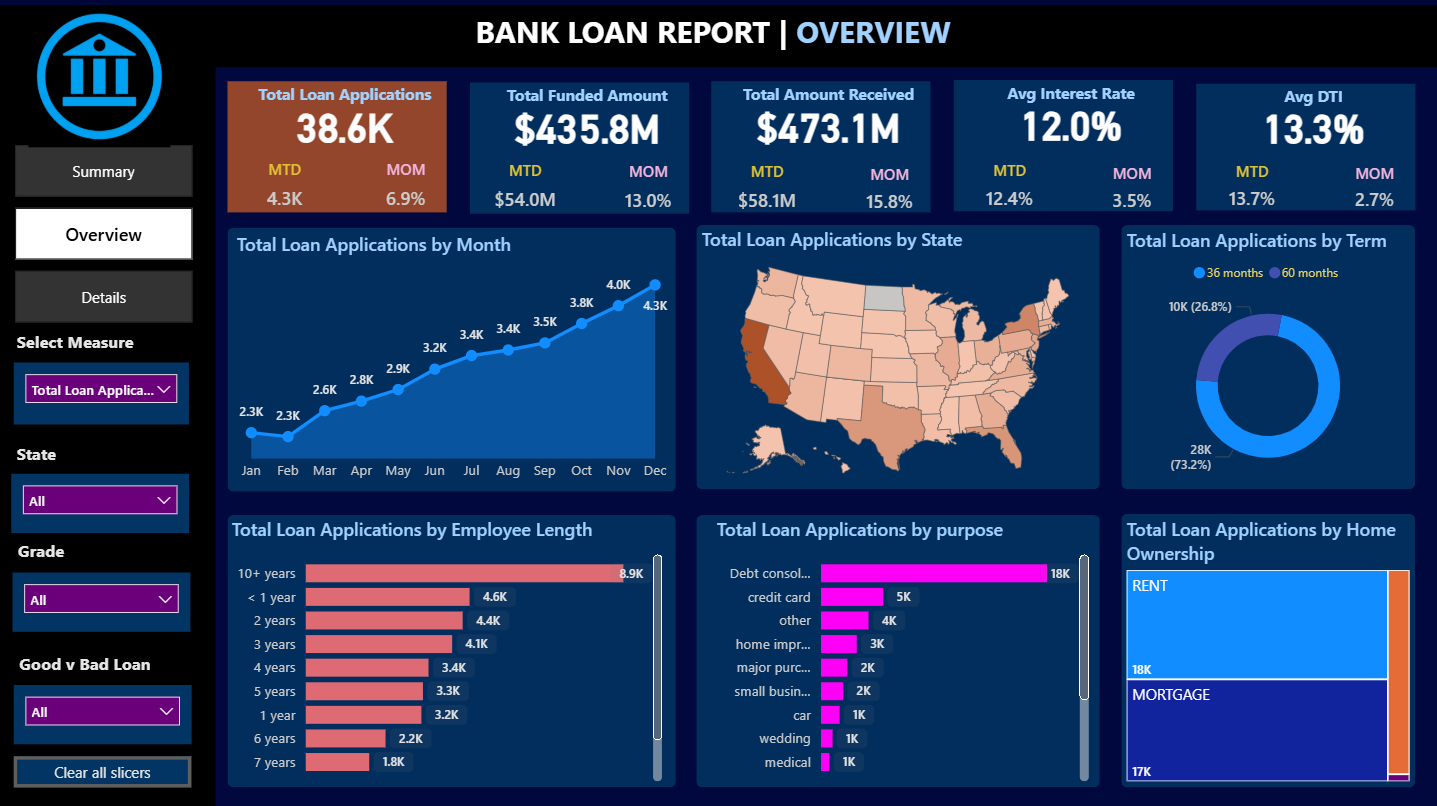

The page's visual inventory and layout, read from the dashboard file:
{"tool":"powerbi","page":{"name":"Overview","canvas":[1280,720],"ordinal":1},"visuals":[{"type":"shape","box":[0,55.5,192,664.7],"z":0},{"type":"shape","box":[848.8,70.8,195.4,117],"z":0,"group":"g4"},{"type":"shape","box":[202.7,72,195.4,117],"z":0,"group":"g1"},{"type":"shape","box":[633.6,72,195.4,117],"z":0,"group":"g3"},{"type":"shape","box":[418.3,73.2,195.4,117],"z":0,"group":"g2"},{"type":"shape","box":[1065.3,74.2,195.4,112.7],"z":0,"group":"g5"},{"type":"card","fields":{"Values":["bank_loan_data.Avg Interest Rate"]},"box":[855.2,85.7,195.4,48.3],"z":1000,"group":"g4"},{"type":"card","fields":{"Values":["bank_loan_data.Total Loan Applications"]},"box":[209.1,86.9,195.4,48.3],"z":1000,"group":"g1"},{"type":"card","fields":{"Values":["bank_loan_data.Total Amount Received"]},"box":[640,86.9,195.4,48.3],"z":1000,"group":"g3"},{"type":"card","fields":{"Values":["bank_loan_data.Total Funded Amount"]},"box":[424.7,88.1,195.4,48.3],"z":1000,"group":"g2"},{"type":"card","fields":{"Values":["bank_loan_data.Avg DTI"]},"box":[1071.7,88.6,195.4,46.5],"z":1000,"group":"g5"},{"type":"shape","box":[202.7,202.7,399.3,235.3],"z":1000},{"type":"shape","box":[0,4.8,1280,55.5],"z":2000},{"type":"textbox","box":[855.2,67.6,195.4,33.8],"z":2000,"group":"g4"},{"type":"textbox","box":[209.1,68.8,195.4,33.8],"z":2000,"group":"g1"},{"type":"textbox","box":[640,68.8,195.4,33.8],"z":2000,"group":"g3"},{"type":"textbox","box":[424.7,70,195.4,33.8],"z":2000,"group":"g2"},{"type":"textbox","box":[1071.7,71.2,195.4,32.5],"z":2000,"group":"g5"},{"type":"textbox","box":[418.6,4.8,442.8,45.8],"z":3000},{"type":"card","title":"MTD","fields":{"Values":["bank_loan_data.MTD Loan Applications"]},"box":[220,141.5,66.4,56.7],"z":3000,"group":"g1"},{"type":"card","title":"MTD","fields":{"Values":["bank_loan_data.MTD Funded Amount"]},"box":[433.9,142.7,67.6,56.7],"z":3000,"group":"g2"},{"type":"card","title":"MTD","fields":{"Values":["bank_loan_data.MTD Avg Int Rate"]},"box":[865.6,142.7,66.4,55.5],"z":3000,"group":"g4"},{"type":"card","title":"MTD","fields":{"Values":["bank_loan_data.MTD Avg DTI"]},"box":[1082.1,143.5,66.4,53.5],"z":3000,"group":"g5"},{"type":"card","title":"MTD","fields":{"Values":["bank_loan_data.MTD Total Amount Received"]},"box":[650.4,143.9,66.4,55.5],"z":3000,"group":"g3"},{"type":"group","id":"g1","title":"Group 1","box":[202.7,68.8,201.8,130.6],"z":4000},{"type":"card","title":"MOM","fields":{"Values":["bank_loan_data.Mom Loan Application"]},"box":[328.6,141.5,66.4,57.9],"z":4000,"group":"g1"},{"type":"card","title":"MOM","fields":{"Values":["bank_loan_data.MoM Total Funded Amount"]},"box":[543.7,143.9,66.4,56.7],"z":4000,"group":"g2"},{"type":"card","title":"MOM","fields":{"Values":["bank_loan_data.MoM Avg Int Rate"]},"box":[974.2,143.9,66.4,54.3],"z":4000,"group":"g4"},{"type":"card","title":"MOM","fields":{"Values":["bank_loan_data.MoM Avg DTI"]},"box":[1190.7,144.7,66.4,52.3],"z":4000,"group":"g5"},{"type":"card","title":"MOM","fields":{"Values":["bank_loan_data.MoM Total Amount Received"]},"box":[759,145.1,66.4,54.3],"z":4000,"group":"g3"},{"type":"group","id":"g2","title":"Group 1","box":[418.3,70,201.5,130.3],"z":5000},{"type":"group","id":"g3","title":"Group 1","box":[633.6,68.8,201.5,130.3],"z":6000},{"type":"group","id":"g4","title":"Group 1","box":[848.8,67.6,202.7,131.5],"z":7000},{"type":"group","id":"g5","title":"Group 1","box":[1065.3,71.2,202.7,126.7],"z":8000},{"type":"slicer","fields":{"Values":["bank_loan_data.address_state"]},"box":[9.7,422.3,158,53.1],"z":10000},{"type":"textbox","box":[9.7,388.5,68.8,33.8],"z":11000},{"type":"slicer","fields":{"Values":["bank_loan_data.grade"]},"box":[10.9,510.3,158,53.1],"z":12000},{"type":"textbox","box":[10.9,475.3,68.8,35],"z":13000},{"type":"slicer","fields":{"Values":["bank_loan_data.Good v Bad Loan"]},"box":[12.1,610.5,158,53.1],"z":14000},{"type":"textbox","box":[12.1,575.5,155.6,35],"z":15000},{"type":"actionButton","box":[12.1,673.2,158,27.7],"z":16000},{"type":"areaChart","fields":{"Y":["bank_loan_data.Total Loan Applications"],"Category":["Date Table.Month"]},"box":[206.3,206.3,395.7,231.6],"z":17000},{"type":"slicer","fields":{"Values":["Select Measure.Select Measure"]},"box":[12.1,323.3,155.6,55.5],"z":18000},{"type":"textbox","box":[9.7,289.5,158,33.8],"z":19000},{"type":"shape","box":[620.1,200.3,359.5,235.3],"z":20000},{"type":"shapeMap","fields":{"Value":["bank_loan_data.Total Loan Applications"],"Category":["bank_loan_data.address_state"]},"box":[620.1,201.5,359.5,235.3],"z":21000},{"type":"shape","box":[998.9,200.3,261.8,235.3],"z":22000},{"type":"donutChart","fields":{"Y":["bank_loan_data.Total Loan Applications"],"Category":["bank_loan_data.term"]},"box":[998.9,202.7,261.8,232.8],"z":23000},{"type":"shape","box":[202.7,458.4,399.3,242.5],"z":24000},{"type":"barChart","fields":{"Y":["bank_loan_data.Total Loan Applications"],"Category":["bank_loan_data.emp_length"]},"box":[201.5,459.7,393.3,241.3],"z":25000},{"type":"shape","box":[620.1,458.4,359.5,242.5],"z":26000},{"type":"barChart","fields":{"Y":["bank_loan_data.Total Loan Applications"],"Category":["bank_loan_data.purpose"]},"box":[633.4,459.7,341.4,241.3],"z":27000},{"type":"shape","box":[998.9,457.2,261.8,243.7],"z":28000},{"type":"treemap","fields":{"Values":["bank_loan_data.Total Loan Applications"],"Group":["bank_loan_data.home_ownership"]},"box":[998.9,459.7,261.8,241.3],"z":29000},{"type":"pageNavigator","box":[13.3,129.1,158,160.5],"z":29001},{"type":"image","box":[19.3,0,139.9,136.3],"z":29002}]}

Visuals, with their boxes on the page's 1280x720 design canvas (x1, y1, x2, y2). These are canvas units, not pixel positions in the 1437x806 screenshot, which may show the page scaled, cropped or inside an application window:
shape: [0,56,192,720]
shape: [849,71,1044,188]
shape: [203,72,398,189]
shape: [634,72,829,189]
shape: [418,73,614,190]
shape: [1065,74,1261,187]
card - bank_loan_data.Avg Interest Rate: [855,86,1051,134]
card - bank_loan_data.Total Loan Applications: [209,87,404,135]
card - bank_loan_data.Total Amount Received: [640,87,835,135]
card - bank_loan_data.Total Funded Amount: [425,88,620,136]
card - bank_loan_data.Avg DTI: [1072,89,1267,135]
shape: [203,203,602,438]
shape: [0,5,1280,60]
textbox: [855,68,1051,101]
textbox: [209,69,404,103]
textbox: [640,69,835,103]
textbox: [425,70,620,104]
textbox: [1072,71,1267,104]
textbox: [419,5,861,51]
"MTD" card: [220,142,286,198]
"MTD" card: [434,143,502,199]
"MTD" card: [866,143,932,198]
"MTD" card: [1082,144,1148,197]
"MTD" card: [650,144,717,199]
"Group 1" group: [203,69,404,199]
"MOM" card: [329,142,395,199]
"MOM" card: [544,144,610,201]
"MOM" card: [974,144,1041,198]
"MOM" card: [1191,145,1257,197]
"MOM" card: [759,145,825,199]
"Group 1" group: [418,70,620,200]
"Group 1" group: [634,69,835,199]
"Group 1" group: [849,68,1052,199]
"Group 1" group: [1065,71,1268,198]
slicer - bank_loan_data.address_state: [10,422,168,475]
textbox: [10,388,78,422]
slicer - bank_loan_data.grade: [11,510,169,563]
textbox: [11,475,80,510]
slicer - bank_loan_data.Good v Bad Loan: [12,610,170,664]
textbox: [12,576,168,610]
actionButton: [12,673,170,701]
areaChart - bank_loan_data.Total Loan Applications x Date Table.Month: [206,206,602,438]
slicer - Select Measure.Select Measure: [12,323,168,379]
textbox: [10,290,168,323]
shape: [620,200,980,436]
shapeMap - bank_loan_data.Total Loan Applications x bank_loan_data.address_state: [620,202,980,437]
shape: [999,200,1261,436]
donutChart - bank_loan_data.Total Loan Applications x bank_loan_data.term: [999,203,1261,436]
shape: [203,458,602,701]
barChart - bank_loan_data.Total Loan Applications x bank_loan_data.emp_length: [202,460,595,701]
shape: [620,458,980,701]
barChart - bank_loan_data.Total Loan Applications x bank_loan_data.purpose: [633,460,975,701]
shape: [999,457,1261,701]
treemap - bank_loan_data.Total Loan Applications x bank_loan_data.home_ownership: [999,460,1261,701]
pageNavigator: [13,129,171,290]
image: [19,0,159,136]
